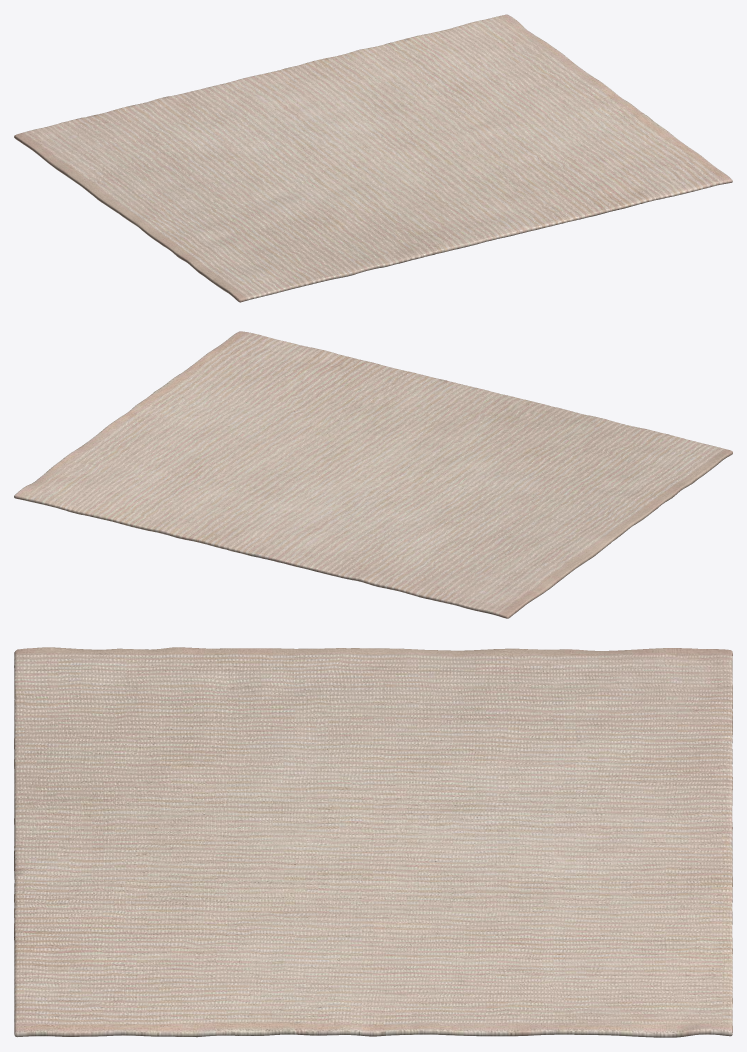
File: carpet_beige.glb
3 renders of one model, top to bottom at view 1: azimuth 30°, elevation 25°; view 2: azimuth 150°, elevation 25°; view 3: azimuth 270°, elevation 25°, orthographic. The views are drawn at different scales.
Parts seen in each view (by area): view 1: Beige Carpet; view 2: Beige Carpet; view 3: Beige Carpet.
Part boxes in pixels (x1,y1,x2,y2): Beige Carpet: [14, 14, 732, 302]; Beige Carpet: [14, 331, 732, 618]; Beige Carpet: [14, 647, 732, 1037].
Size of the model in its own units: 2.39 by 0.0251 by 1.89.
1 material, 1 textured.
